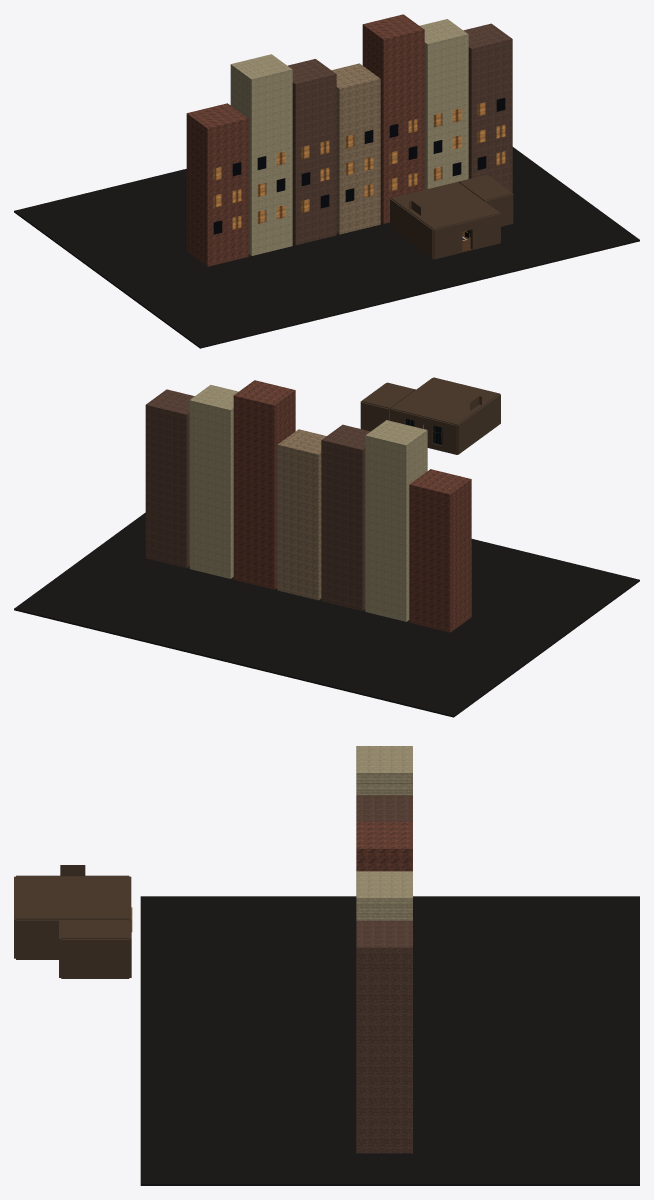
Rendered from stmark.glb.
3 renders of one model, top to bottom at view 1: azimuth 30°, elevation 25°; view 2: azimuth 150°, elevation 25°; view 3: azimuth 270°, elevation 25°, orthographic. The views are drawn at different scales.
Visible parts, largest first — view 1: roof, brick_red, clap_cream, brick_brown, plaster, brick_tan, glass_lit0, glass_dark; view 2: roof, brick_red, clap_cream, brick_brown, brick_tan, plaster; view 3: roof, brick_brown, plaster, clap_cream, brick_red.
Boxes of the visible parts, x1,y1,x2,y2 form: roof: [14, 147, 639, 348]; brick_red: [186, 14, 424, 266]; clap_cream: [230, 19, 468, 255]; brick_brown: [288, 23, 512, 245]; plaster: [390, 175, 513, 259]; brick_tan: [331, 63, 380, 234]; glass_lit0: [213, 102, 505, 229]; glass_dark: [213, 97, 505, 234]; roof: [14, 512, 639, 717]; brick_red: [233, 380, 471, 632]; clap_cream: [189, 385, 427, 621]; brick_brown: [145, 389, 370, 610]; brick_tan: [277, 429, 326, 600]; plaster: [360, 377, 500, 454]; roof: [140, 896, 639, 1185]; brick_brown: [356, 795, 412, 1153]; plaster: [14, 865, 131, 978]; clap_cream: [356, 746, 412, 920]; brick_red: [356, 822, 412, 871].
Bounding box in the file's own units: 60 × 24.2 × 55.17.
34 materials, 12 textured.
